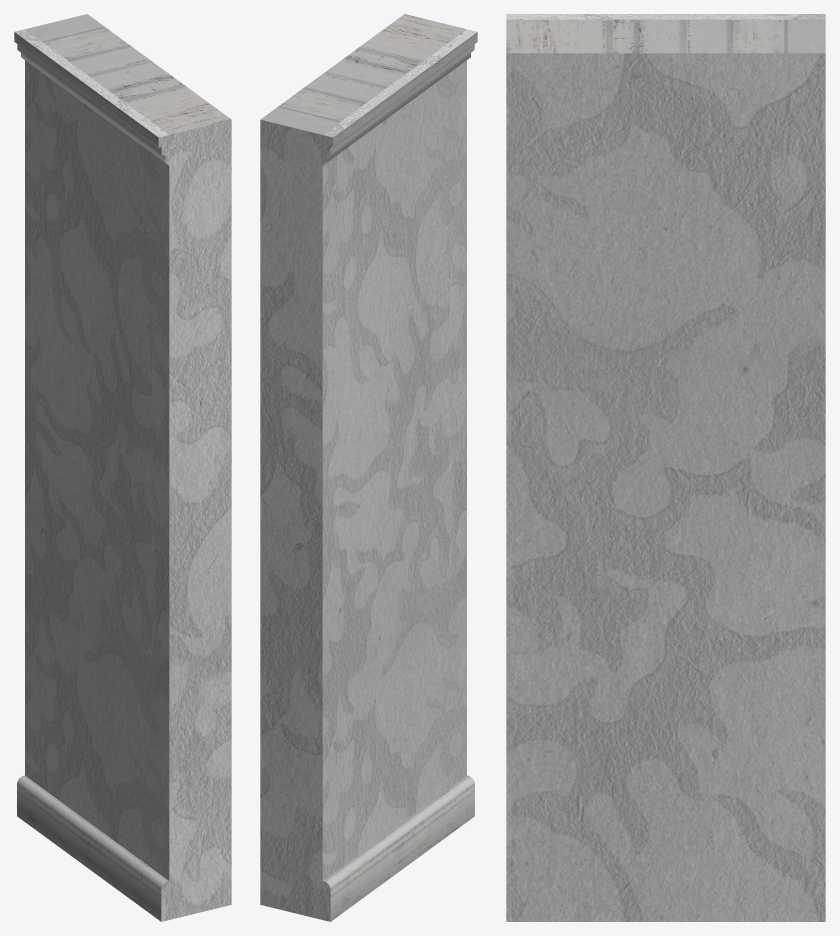
File: SM_Wall_Bedroom_1x3M.fbx
3 views of the same model, side by side, from view 1: azimuth 30°, elevation 25°; view 2: azimuth 150°, elevation 25°; view 3: azimuth 270°, elevation 25° (orthographic). The views are drawn at different scales.
Visible parts, largest first — view 1: SM_Wall_Bedroom_1x3M_LOD0; view 2: SM_Wall_Bedroom_1x3M_LOD0; view 3: SM_Wall_Bedroom_1x3M_LOD0.
Boxes of the visible parts, left/top/right/bottom form: SM_Wall_Bedroom_1x3M_LOD0: left=14, top=14, right=231, bottom=921; SM_Wall_Bedroom_1x3M_LOD0: left=260, top=14, right=477, bottom=921; SM_Wall_Bedroom_1x3M_LOD0: left=506, top=14, right=825, bottom=921.
Bounding box in the file's own units: 29.25 × 100 × 300.
